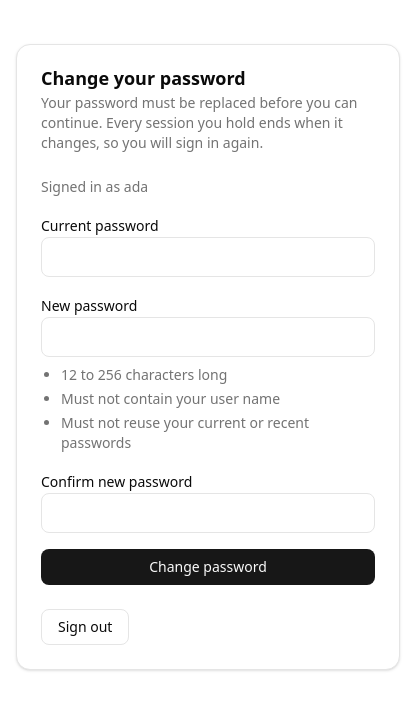
Test case: App with the change-required flag › shows a policy refusal by the rule the backend names
Type "provisioned-1" into the password field labelled "Current password" at (208, 257), box x1=41 y1=237 x2=375 y2=277
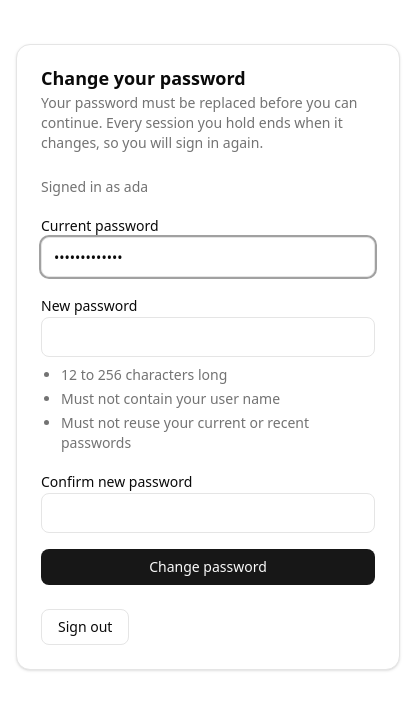
Type "ada-is-my-name-ok" into the password field labelled "New password" at (208, 337), box x1=41 y1=317 x2=375 y2=357
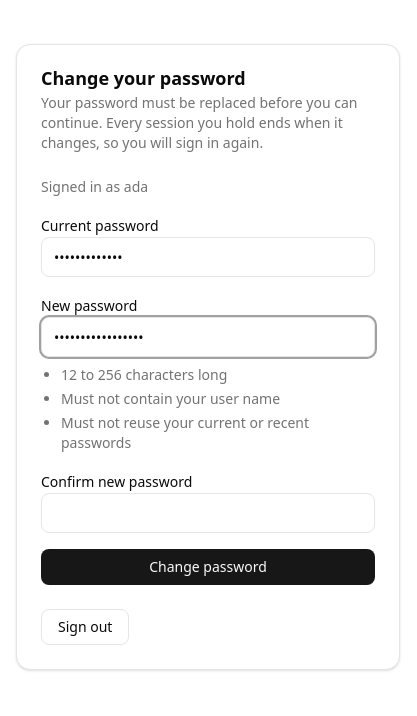
Type "ada-is-my-name-ok" into the password field labelled "Confirm new password" at (208, 513), box x1=41 y1=493 x2=375 y2=533
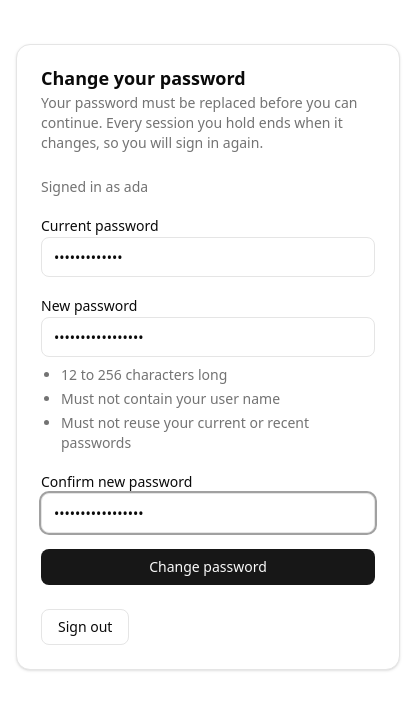
Click the button "Change password" at (208, 567), box x1=41 y1=549 x2=375 y2=585
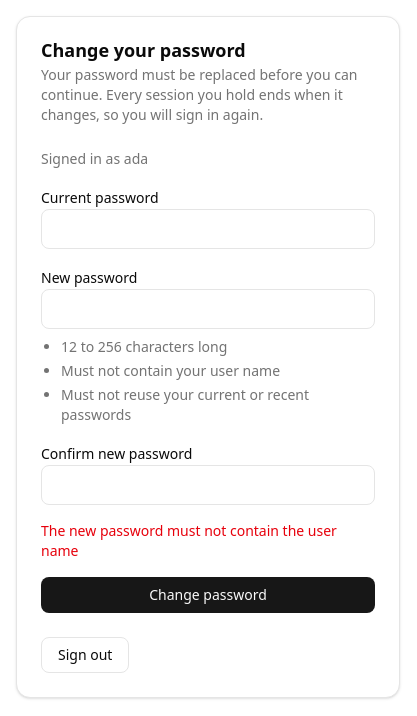
Check: the message reads "The new password must not contain the user name", box x1=41 y1=521 x2=337 y2=560
